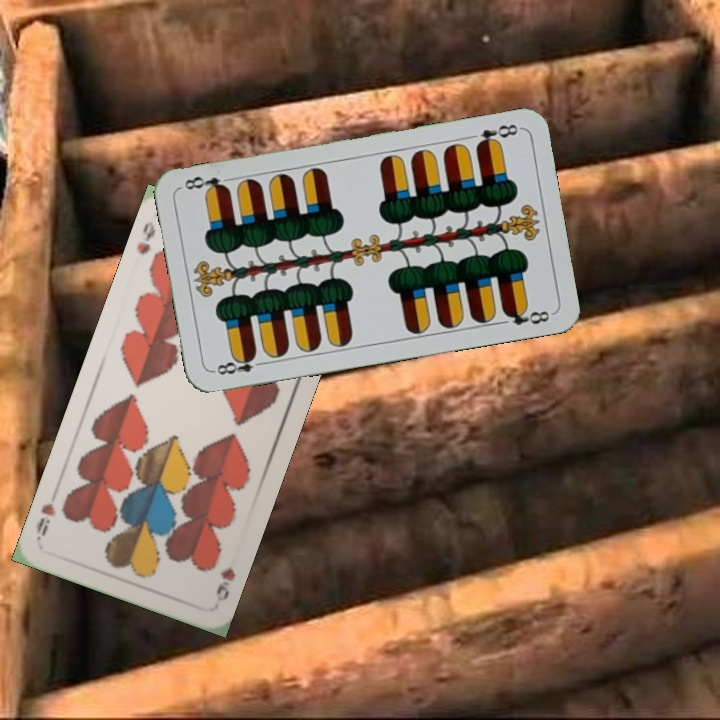E8: (209, 350, 269, 377), (471, 120, 522, 150)
H9: (212, 561, 239, 604), (132, 217, 158, 257)
